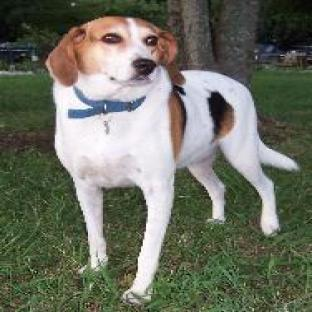Animal: (46, 17, 297, 303)
